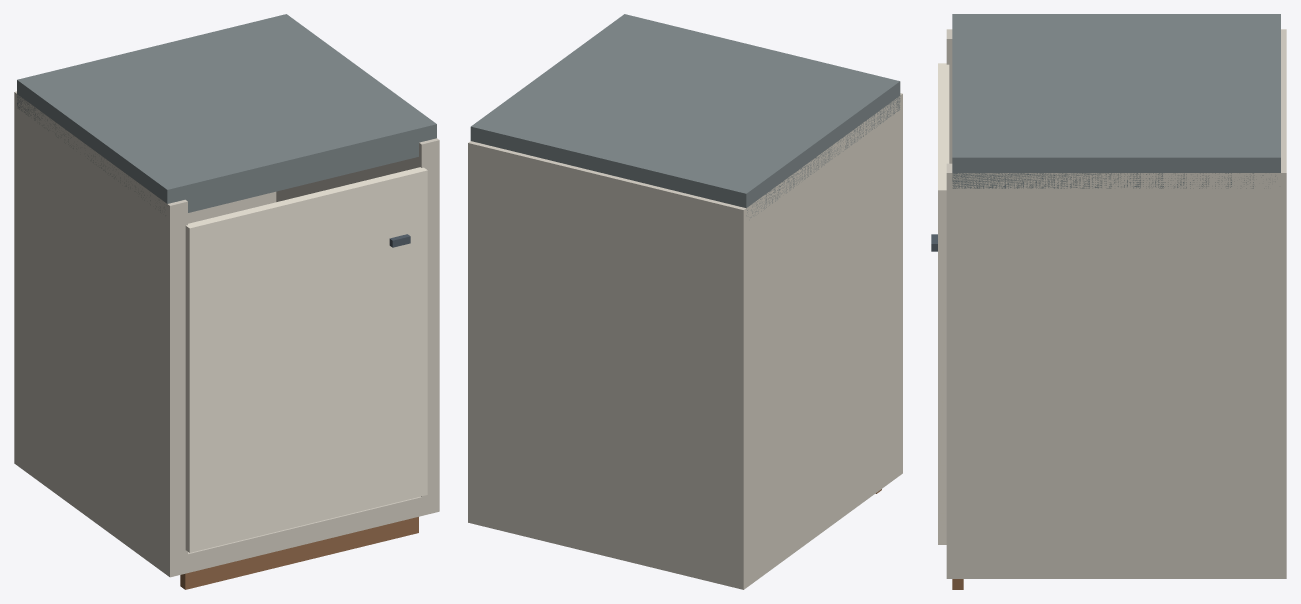
File: Kitchen_Base_Cabinet_60.fbx
3 renders of one model, left to right at view 1: azimuth 30°, elevation 25°; view 2: azimuth 150°, elevation 25°; view 3: azimuth 270°, elevation 25°, orthographic. The views are drawn at different scales.
Parts seen in each view (by area): view 1: Kitchen_Base_Cabinet_60; view 2: Kitchen_Base_Cabinet_60; view 3: Kitchen_Base_Cabinet_60.
Boxes of the visible parts, bbox=[...] form: Kitchen_Base_Cabinet_60: bbox=[14, 14, 439, 589]; Kitchen_Base_Cabinet_60: bbox=[468, 14, 902, 589]; Kitchen_Base_Cabinet_60: bbox=[931, 14, 1286, 589].
Bounding box in the file's own units: 0.6 × 0.86 × 0.627.
